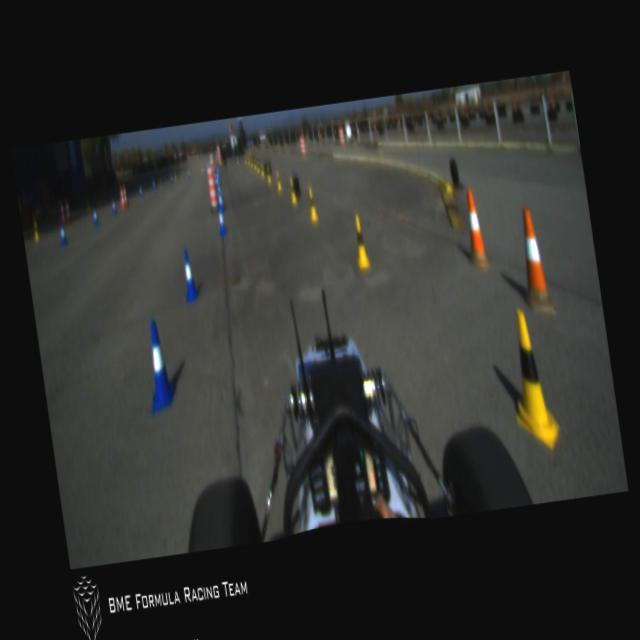blue_cone: (138, 318, 178, 414), (178, 248, 200, 304), (216, 206, 227, 238), (58, 222, 68, 248), (217, 188, 226, 212), (92, 206, 100, 227), (111, 196, 117, 214), (138, 184, 144, 198), (152, 180, 156, 190), (187, 170, 191, 180), (170, 174, 173, 184)
large_orange_cone: (63, 198, 71, 224), (122, 184, 130, 210), (58, 201, 66, 226), (118, 185, 126, 210)
unknown_cone: (511, 205, 557, 318), (461, 186, 492, 272)
yellow_cone: (500, 306, 562, 454), (352, 214, 371, 268), (306, 187, 318, 222), (288, 176, 298, 204), (32, 220, 40, 243), (275, 170, 282, 191), (266, 166, 272, 183), (260, 162, 264, 178), (253, 158, 257, 171), (256, 160, 260, 172), (250, 158, 253, 168)
